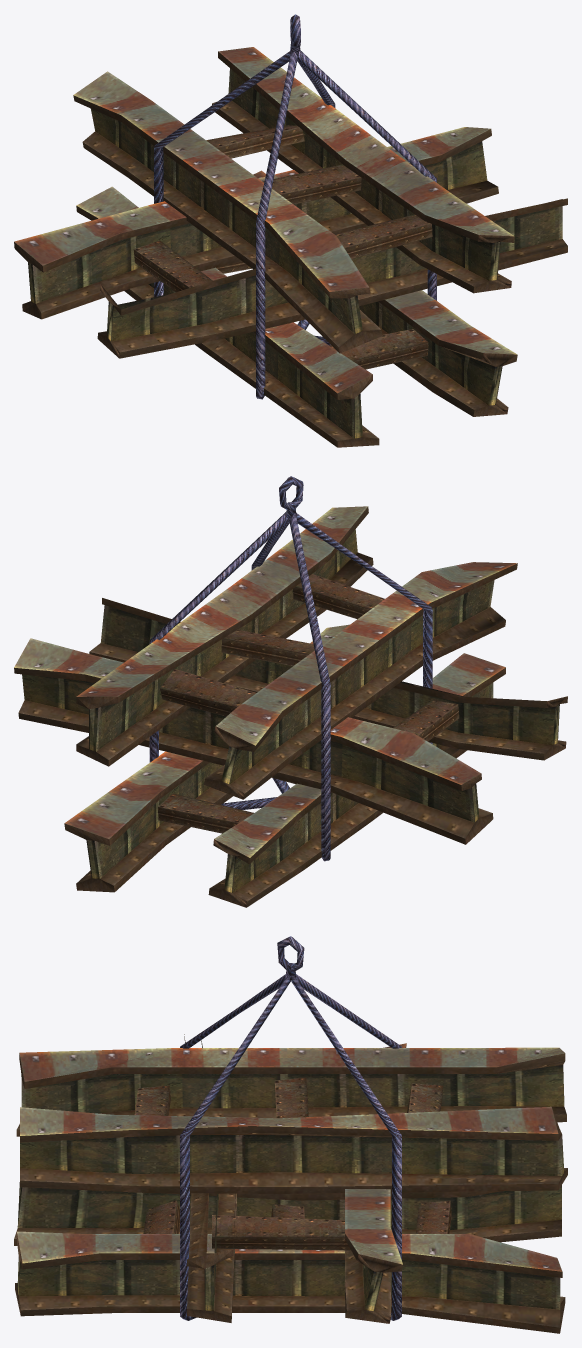
The model's file is HangingScrapPieces.gltf.
3 views of the same model, one above another, from view 1: azimuth 30°, elevation 25°; view 2: azimuth 150°, elevation 25°; view 3: azimuth 270°, elevation 25° (orthographic). The views are drawn at different scales.
Parts seen in each view (by area): view 1: HangingScrapPiece5, HangingScrapPiece6, HangingScrapPiece7, HangingScrapPiece4, HangingScrapPiece1, HangingScrapPiece3, HangingScrapPiece2; view 2: HangingScrapPiece5, HangingScrapPiece6, HangingScrapPiece7, HangingScrapPiece1, HangingScrapPiece2, HangingScrapPiece4, HangingScrapPiece3; view 3: HangingScrapPiece5, HangingScrapPiece7, HangingScrapPiece6, HangingScrapPiece2, HangingScrapPiece3, HangingScrapPiece1, HangingScrapPiece4.
Boxes of the visible parts, x1,y1,x2,y2 form: HangingScrapPiece5: (73, 47, 514, 353); HangingScrapPiece6: (14, 127, 567, 358); HangingScrapPiece7: (76, 170, 517, 447); HangingScrapPiece4: (256, 52, 297, 399); HangingScrapPiece1: (154, 51, 291, 296); HangingScrapPiece3: (297, 50, 436, 345); HangingScrapPiece2: (290, 14, 335, 329); HangingScrapPiece5: (76, 506, 517, 799); HangingScrapPiece6: (14, 598, 567, 844); HangingScrapPiece7: (64, 624, 505, 907); HangingScrapPiece1: (289, 513, 330, 861); HangingScrapPiece2: (149, 476, 303, 809); HangingScrapPiece4: (295, 513, 432, 743); HangingScrapPiece3: (251, 521, 289, 793); HangingScrapPiece5: (16, 1047, 567, 1193); HangingScrapPiece7: (14, 1182, 565, 1333); HangingScrapPiece6: (184, 1034, 406, 1323); HangingScrapPiece2: (277, 936, 401, 1320); HangingScrapPiece3: (180, 975, 290, 1320); HangingScrapPiece1: (296, 974, 401, 1048); HangingScrapPiece4: (180, 974, 285, 1048).
Bounding box in the file's own units: 4.05 × 2.87 × 4.07.
3 materials, 3 textured.
